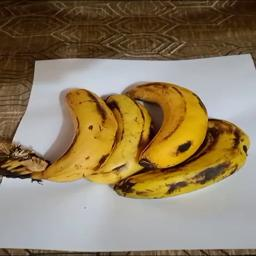Banana Semifresh: (33, 85, 117, 186), (121, 75, 207, 168), (103, 87, 155, 185)
